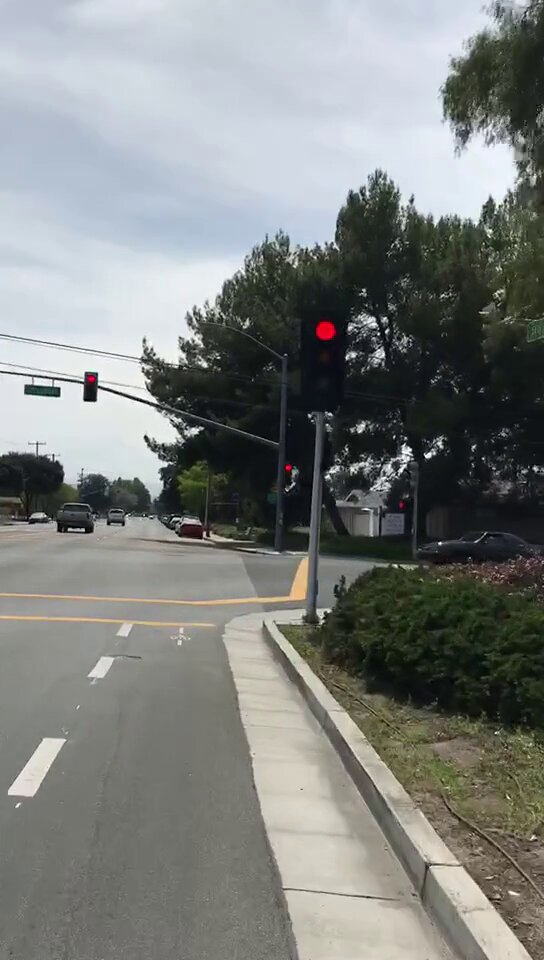red_light: (306, 315, 344, 407), (85, 370, 96, 398), (282, 463, 292, 484)
